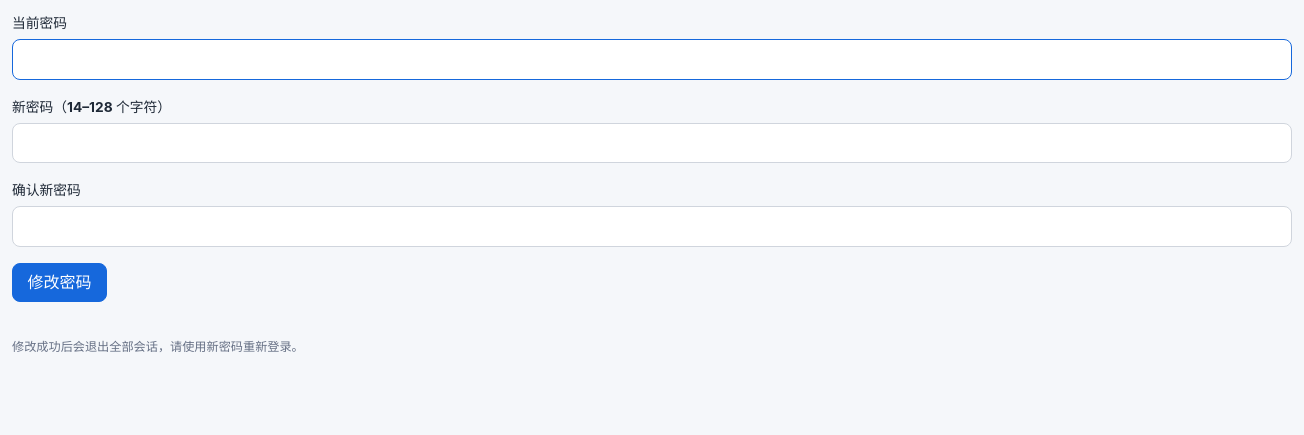
Test case: PasswordChange › rejects mismatch and policy failures without sending a request
This screenshot has width=1304, height=435.
Type "current-password-canary" into the password field labelled "当前密码".
click(652, 59); type("current-password-canary")  # box [12,39,1292,80]
Type "new-password-canary" into the password field labelled "新密码（14–128 个字符）".
click(652, 143); type("new-password-canary")  # box [12,123,1292,163]
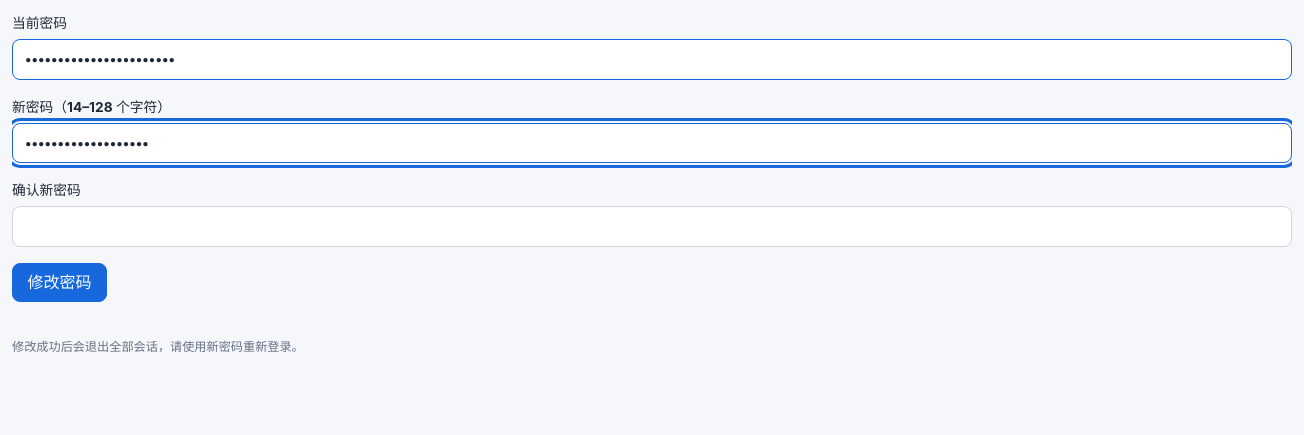
Type "different-password" into the password field labelled "确认新密码".
click(652, 226); type("different-password")  # box [12,206,1292,247]
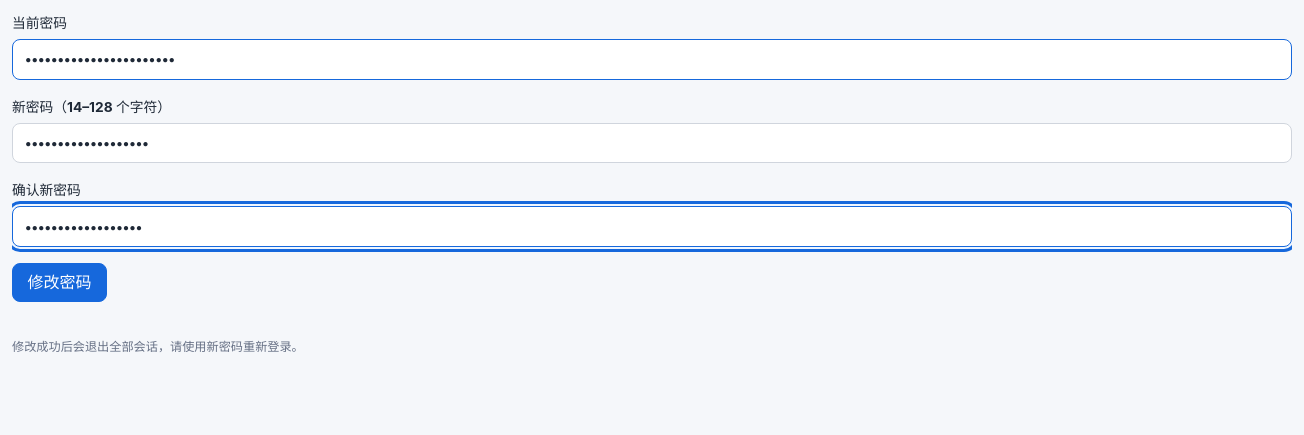
Click the button "修改密码".
click(59, 283)  # box [12,263,107,302]
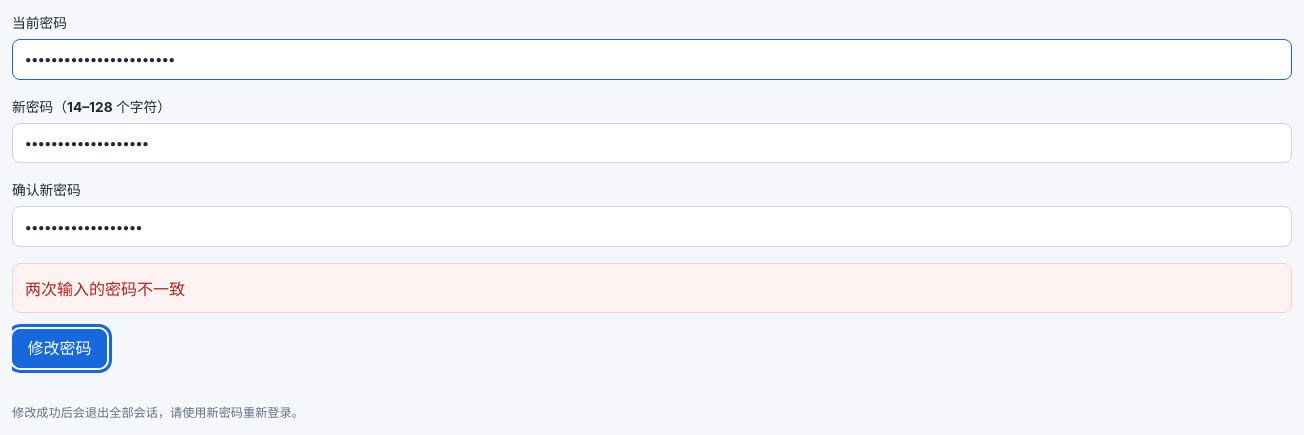
Now the message reads "两次输入的密码不一致", box [25,279,185,299]
Type "too-short" into the password field labelled "新密码（14–128 个字符）".
click(652, 143); type("too-short")  # box [12,123,1292,163]
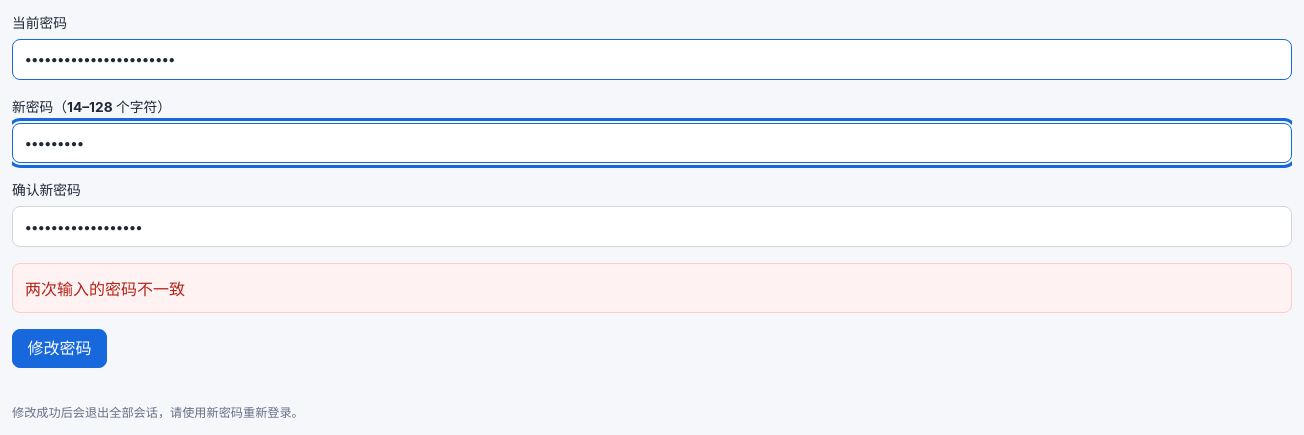
Type "too-short" into the password field labelled "确认新密码".
click(652, 226); type("too-short")  # box [12,206,1292,247]
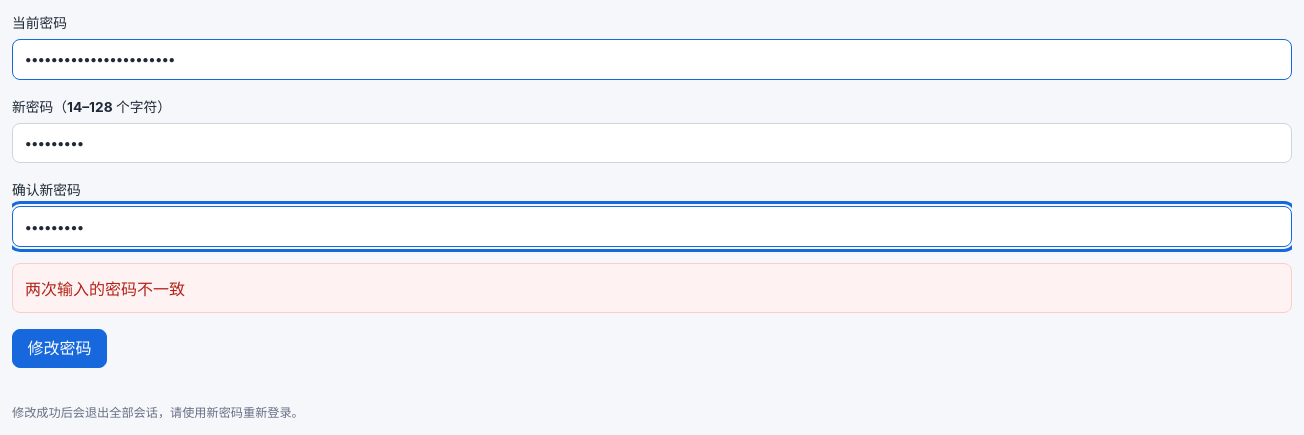
Click the button "修改密码".
click(59, 349)  # box [12,329,107,368]
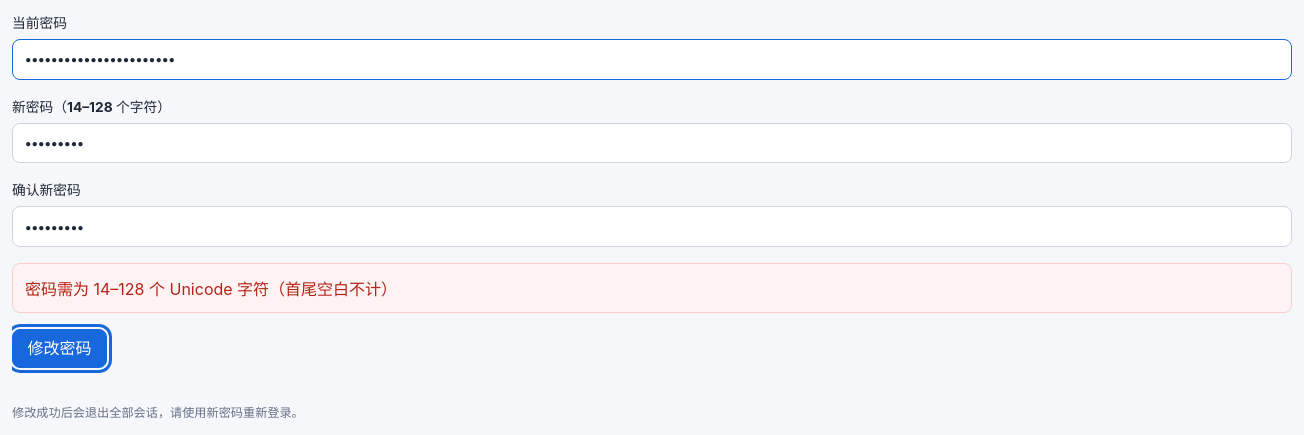
Now the message shows "密码需为 14–128 个 Unicode 字符", box [25,279,397,299]
